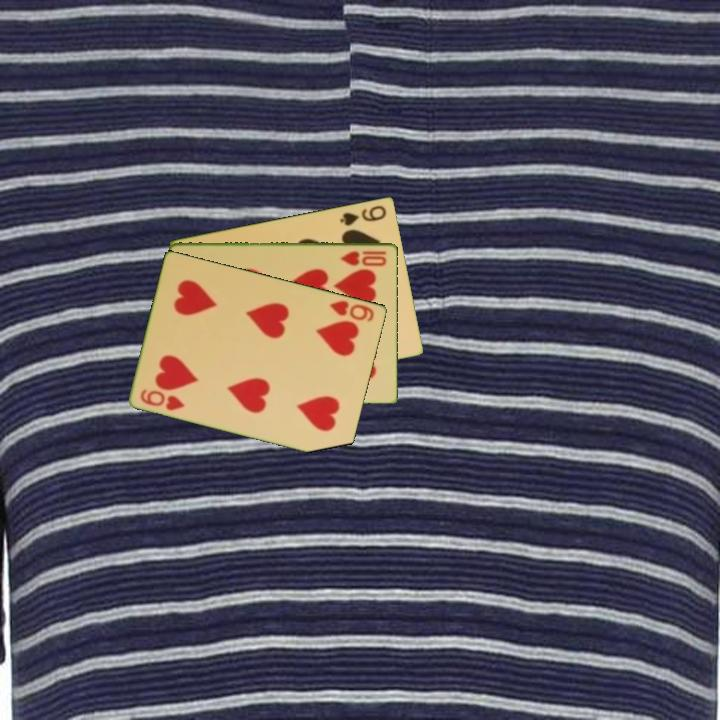10h: (337, 247, 389, 268)
6h: (326, 296, 377, 325), (137, 385, 188, 413)
9s: (336, 202, 389, 228)
